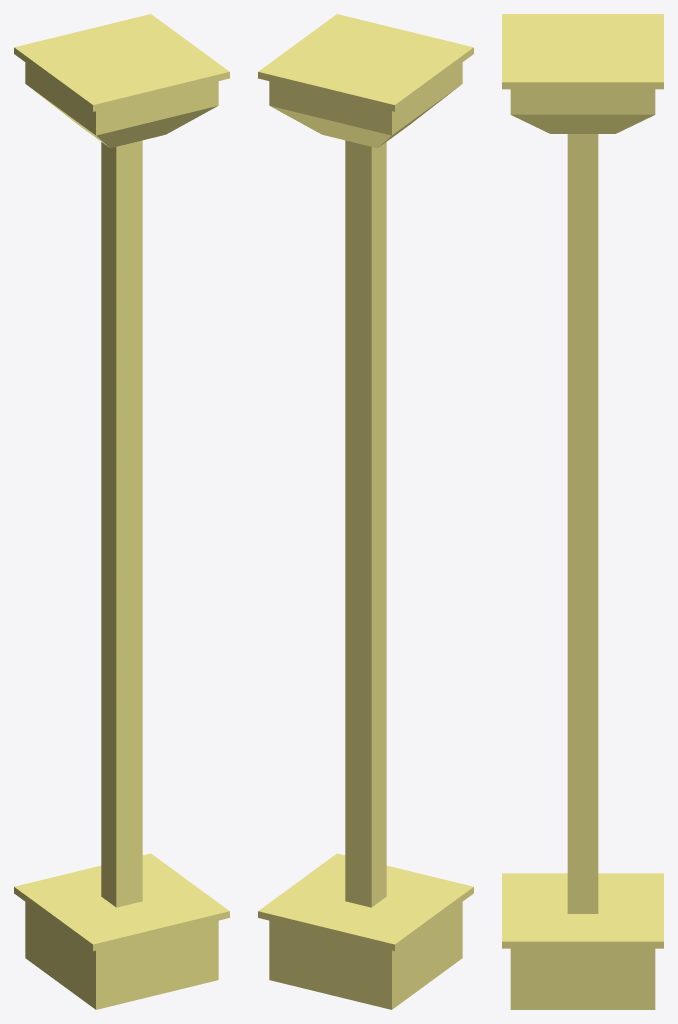
The model's file is cube rod.fbx.
The picture shows the model from 3 angles, left to right: view 1: azimuth 30°, elevation 25°; view 2: azimuth 150°, elevation 25°; view 3: azimuth 270°, elevation 25°; orthographic projection. The views are drawn at different scales.
Visible parts, largest first — view 1: Cube.001, Cube, Cube.002; view 2: Cube.001, Cube, Cube.002; view 3: Cube.001, Cube, Cube.002.
Boxes of the visible parts, x1,y1,x2,y2 form: Cube.001: (101,140,142,907); Cube: (14,853,229,1009); Cube.002: (14,14,229,148); Cube.001: (345,140,386,907); Cube: (258,853,473,1009); Cube.002: (258,14,473,148); Cube.001: (567,134,598,913); Cube: (502,873,663,1009); Cube.002: (502,14,663,133).
Bounding box in the file's own units: 223 × 1419 × 223.
1 material, 1 textured.
